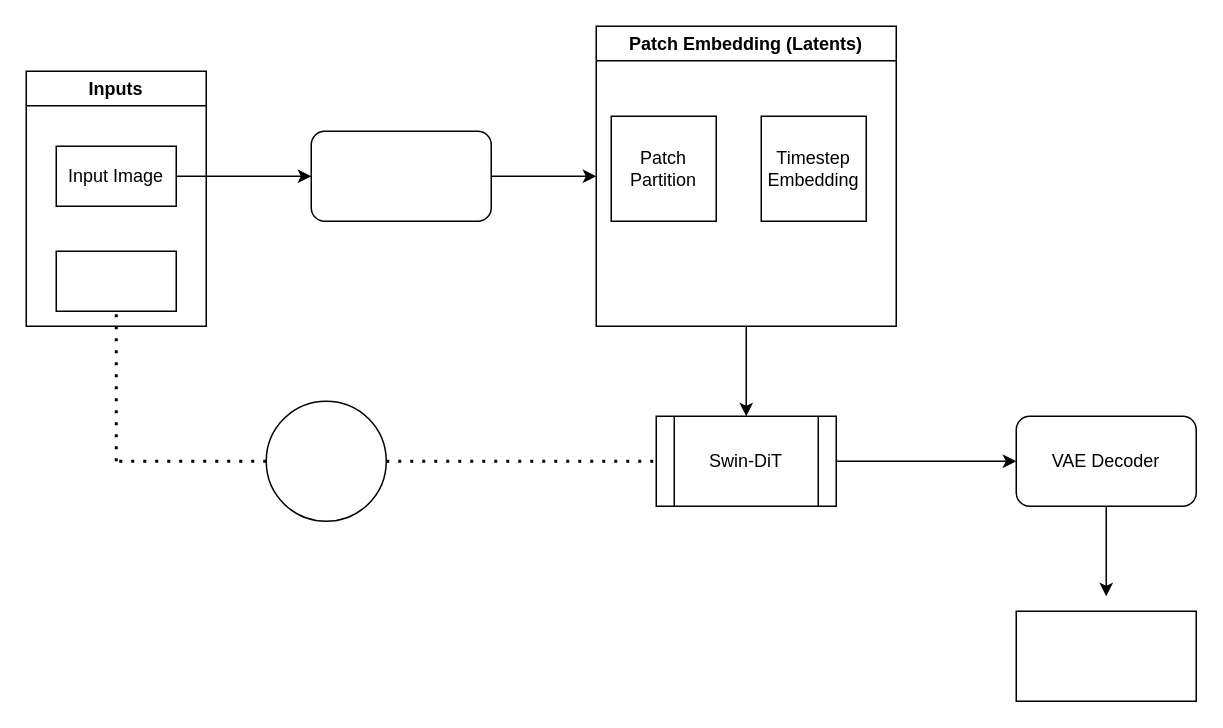
Image size: 1223x728. Some labels were removed from this diagram. The shapes that lost their labels are listed below. From the top down, each one's centre as x and y in pixels, then its label:
At [400,175]: "VAE Encoder".
At [115,280]: "Text Prompt".
At [325,460]: "CLIP".
At [1105,655]: "Output Image".
